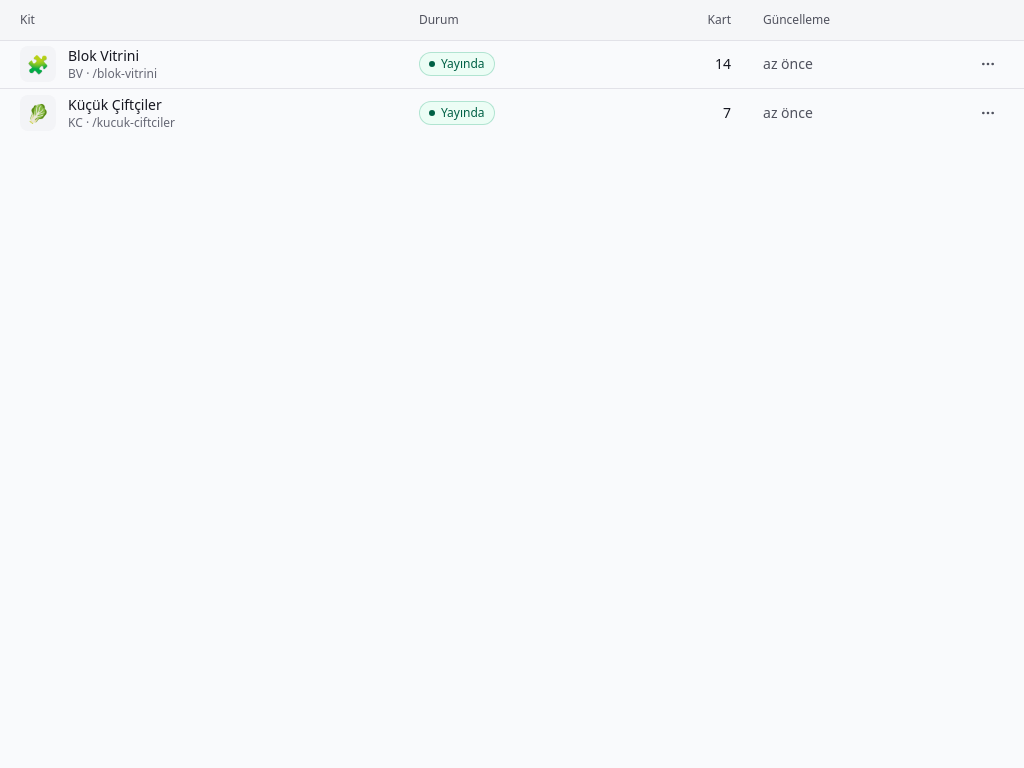
it: KitsTable › archives a kit after confirmation
The width and height of the screenshot is (1024, 768).
What coordinates should you click on to do the following:
click the button named "Blok Vitrini için işlemler"
I would click on:
 (988, 64)
Its box is 972,48 -> 1004,80.
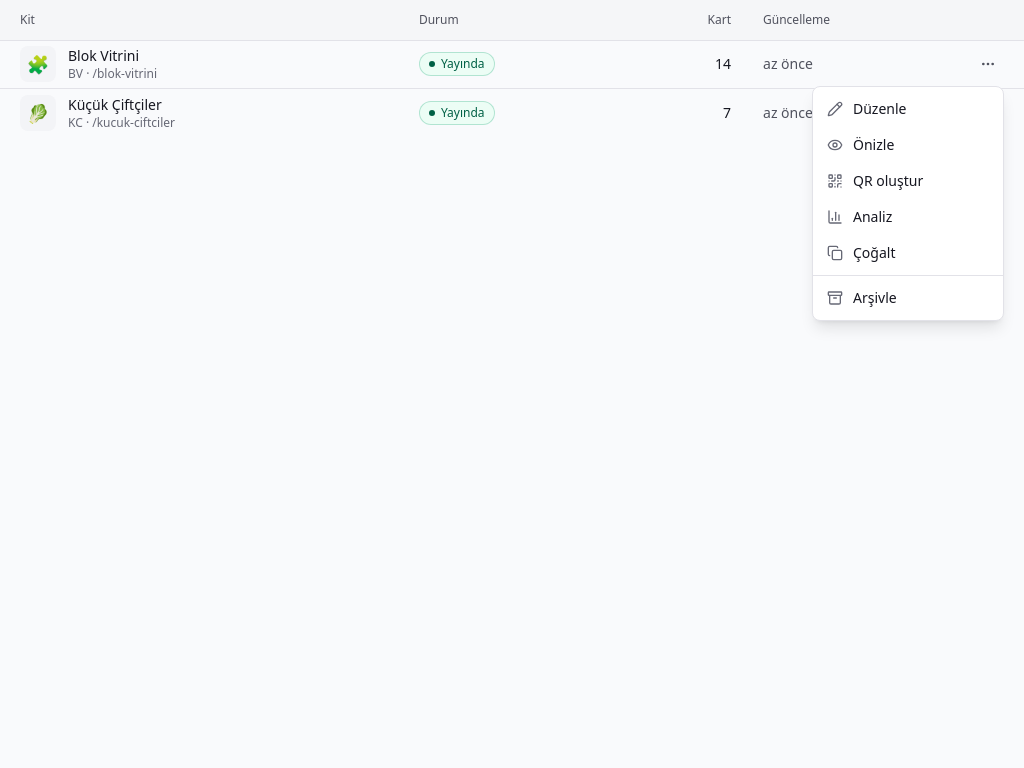
What coordinates should you click on to do the following:
click the menu item "Arşivle"
I would click on:
 (862, 298)
Its box is 827,288 -> 897,307.
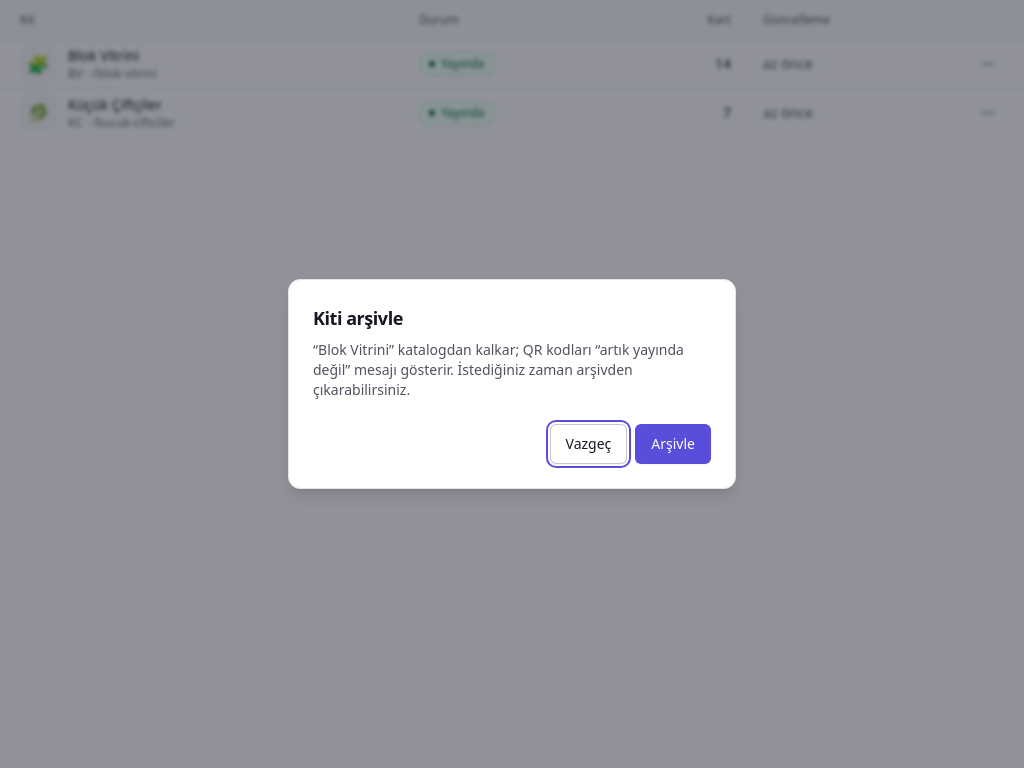
What coordinates should you click on to do the following:
click the button "Arşivle"
I would click on:
 (673, 444)
Its box is 635,424 -> 711,464.
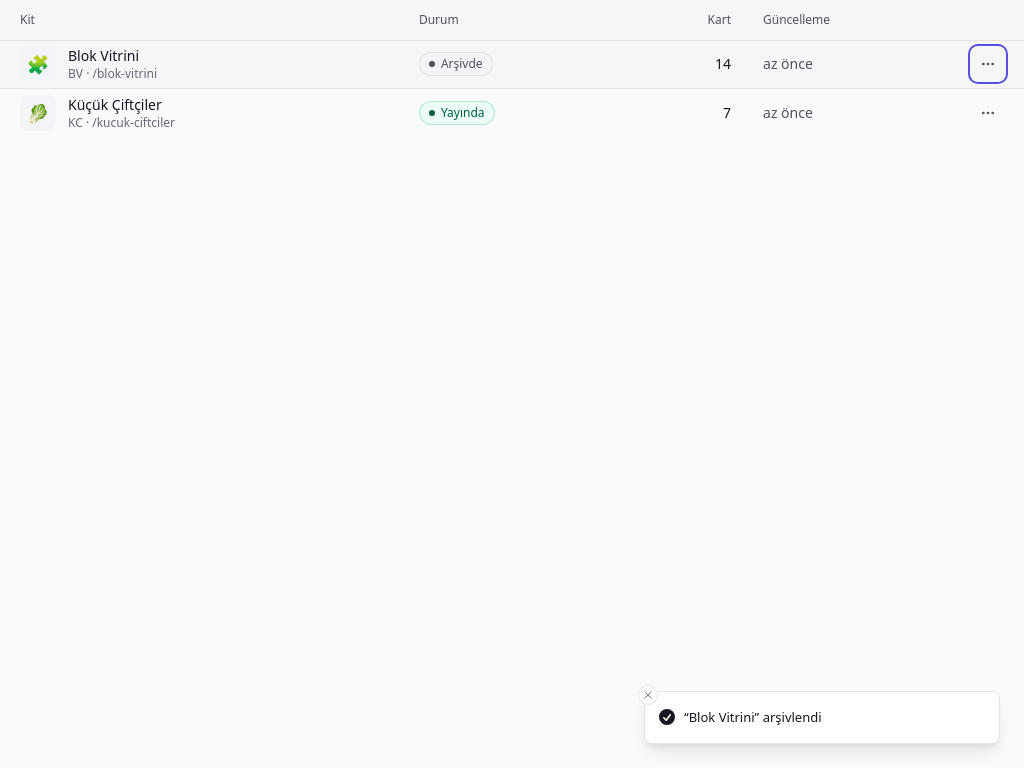
Check: the text "“Blok Vitrini” arşivlendi" is shown, box 684,708 -> 822,727
Check: the dialog is gone
